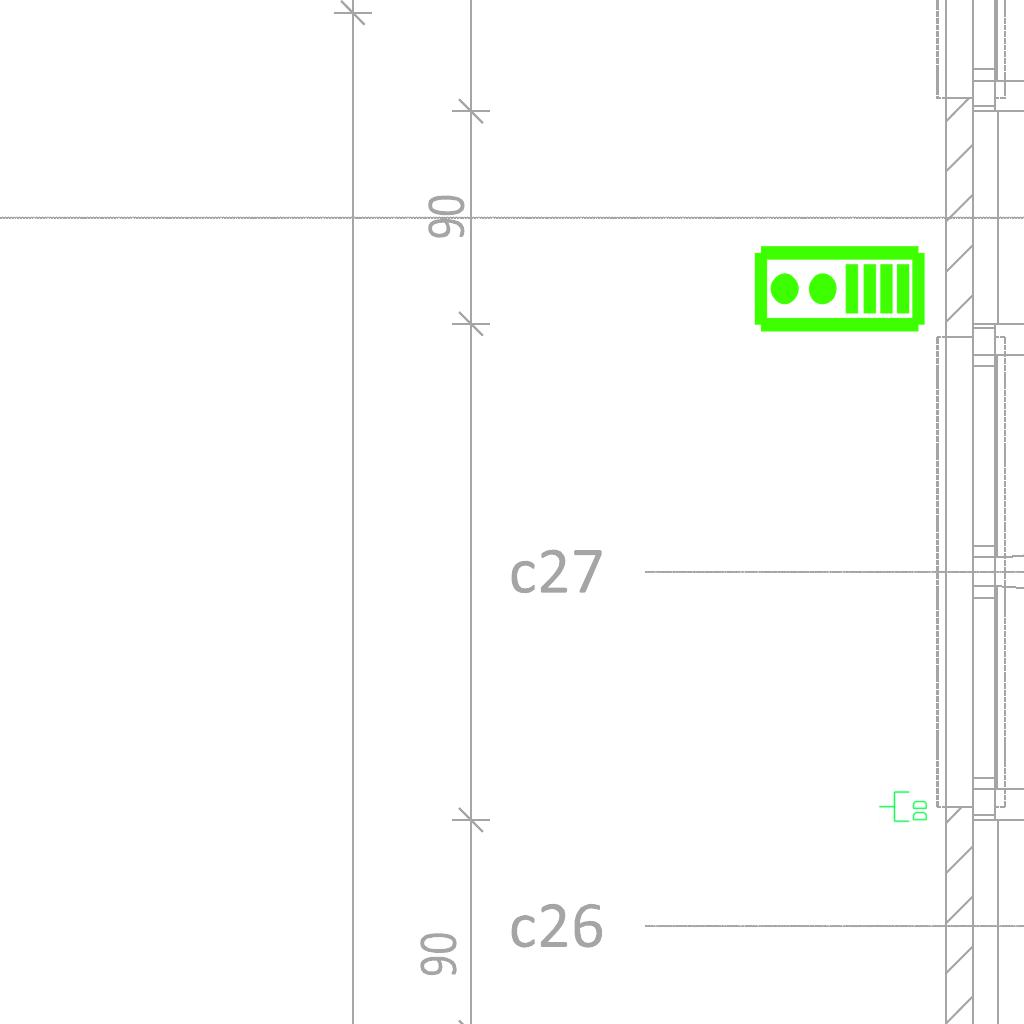Datenanschluss_zweifach: (878, 790, 929, 824)
Gegensprechanlage_mit_Video: (751, 243, 927, 338)
